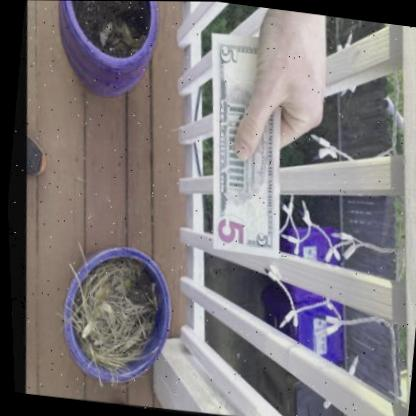five-back: (185, 32, 297, 258)
